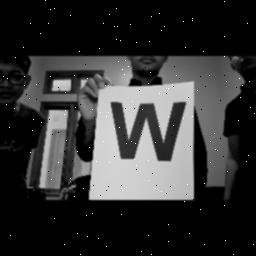w: (108, 100, 188, 170)
